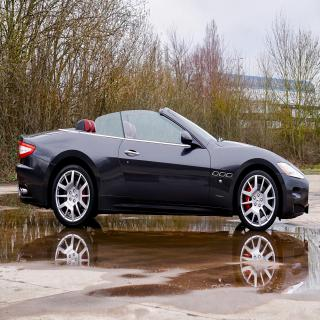Normal_vehicle: (16, 109, 314, 232)
